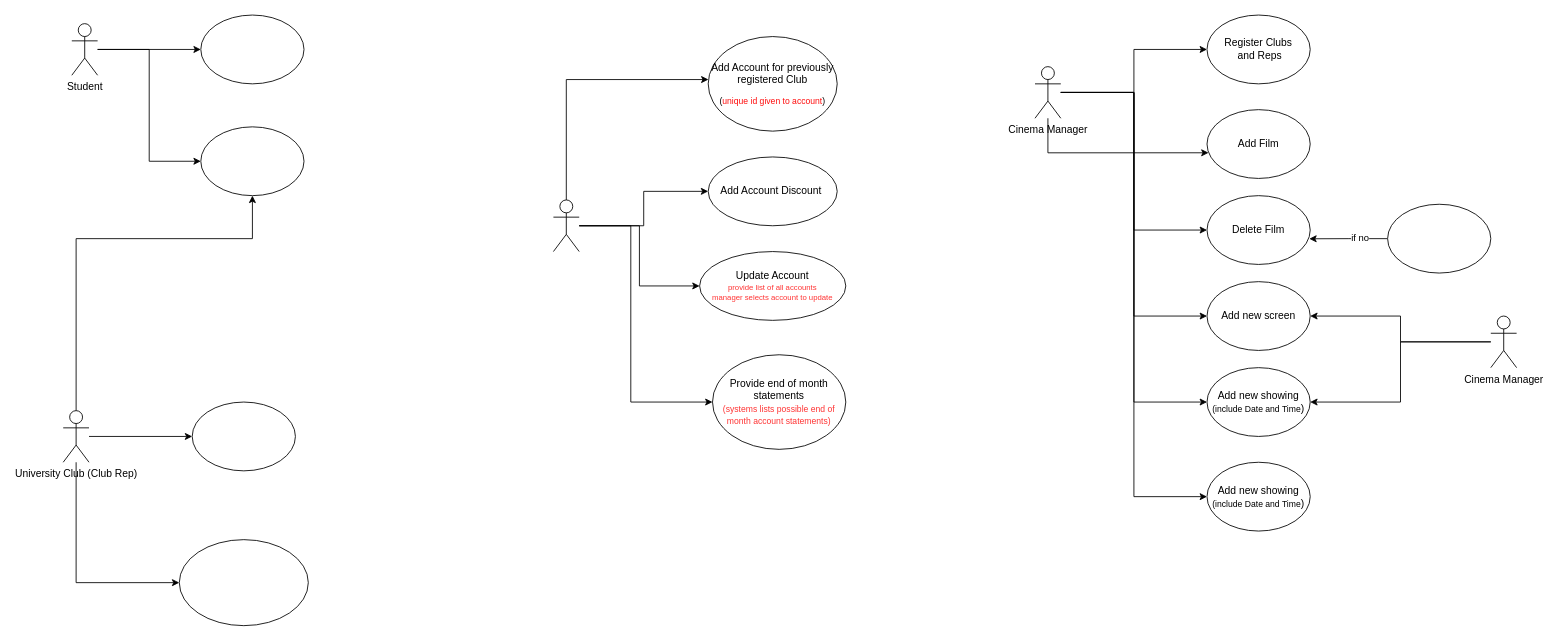
This 1557x641 diagram has some shape labels left out. Here are the shapes that lost their labels. From the top down, the box of each, then its label:
(200, 14, 304, 84): Purchase tickets (advance)
(200, 126, 304, 196): Print tickets from swiping card use to purchase tickets
(553, 199, 579, 252): Accounts Manager Accounts Department
(1387, 203, 1491, 273): showings
(191, 401, 295, 471): Purchase block of tickets
(178, 539, 308, 626): Pay outstanding balance on any block tickets
